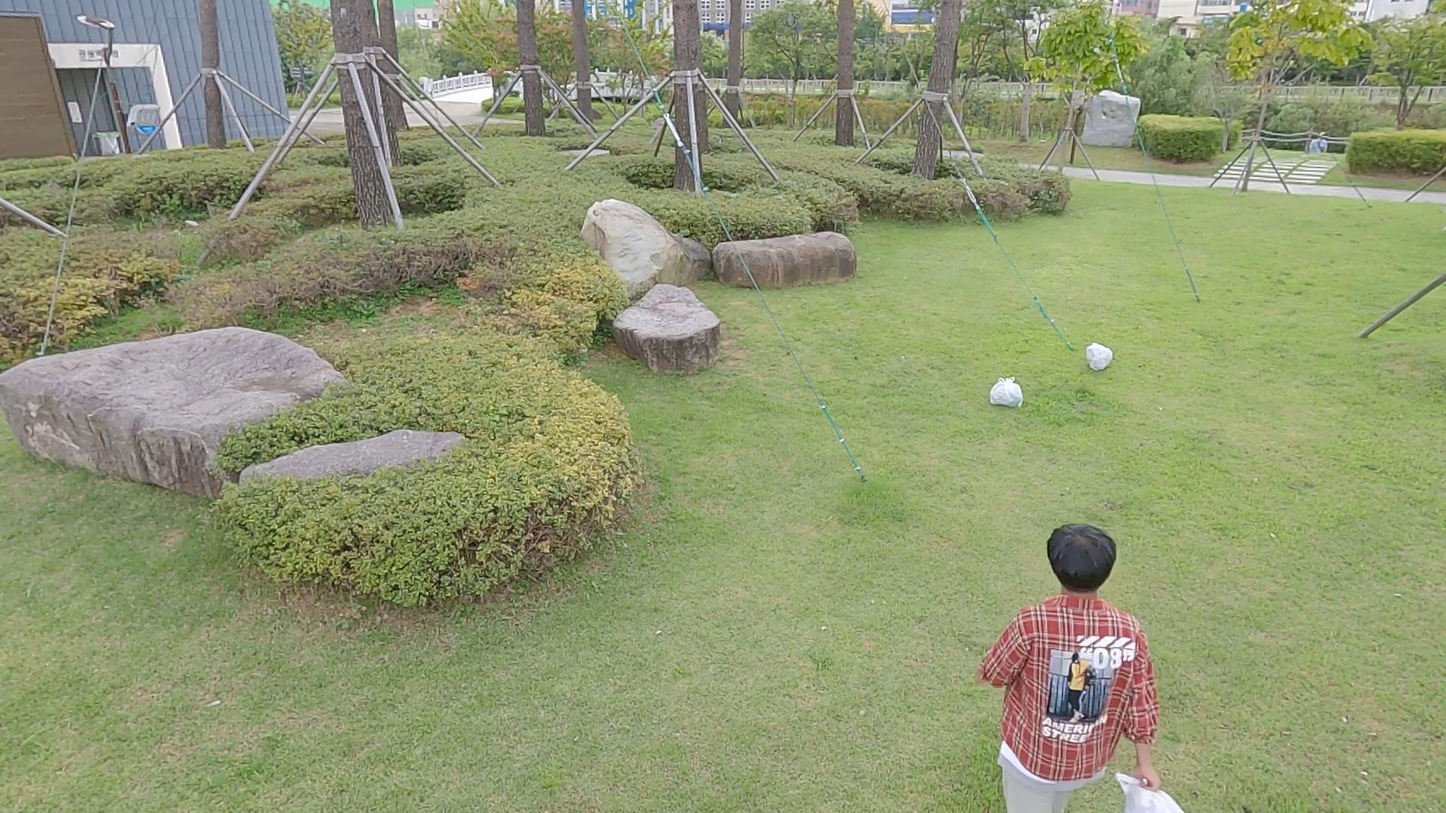person: (972, 517, 1162, 813)
trash: (1115, 770, 1192, 813), (989, 376, 1031, 414), (1082, 335, 1117, 373)
